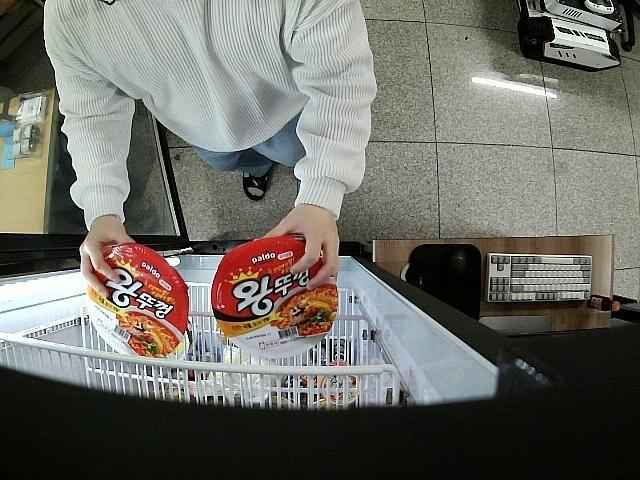10_wangTtukkeong: (210, 236, 338, 356), (85, 243, 188, 356)
